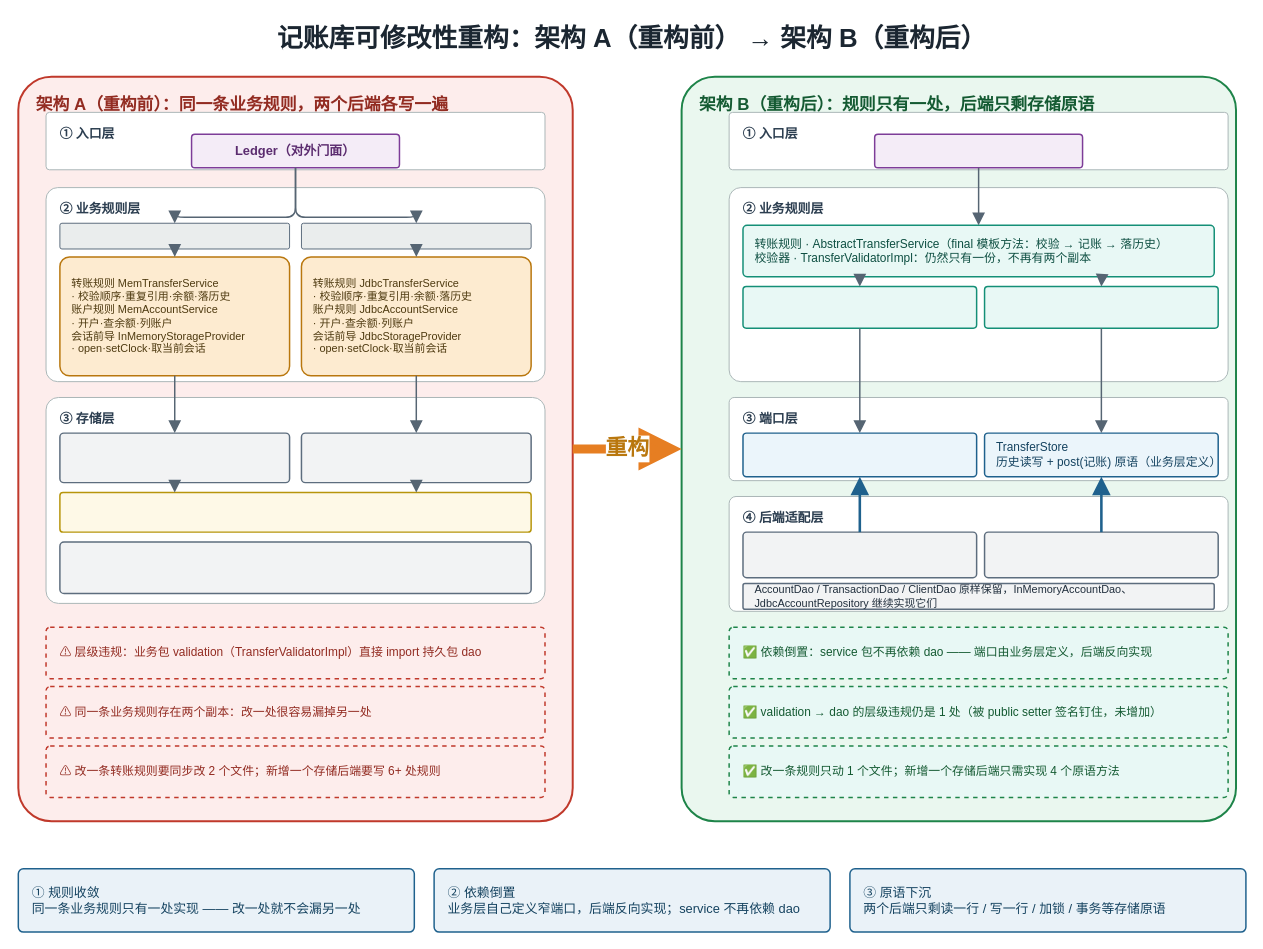
Image size: 1263x949. Some labels were removed from this diagram. The shapes that lost their labels are listed below. From the top down, each one's centre as x and y in pixels, then its label:
point 978,150: Ledger（对外门面，不变）
point 174,235: 内存后端 package memory
point 415,235: JDBC 后端 package jdbc
point 859,306: 账户规则 · AccountServiceImpl
point 1100,306: 会话前导 · AbstractStorageProvider
point 174,457: InMemoryAccountDao InMemoryTransactionDao Map 索引 + 写锁 + 快照回滚
point 415,457: JdbcAccountRepository JdbcTransactionRepository SQL + 事务 + 隔离级别
point 859,454: AccountStore 账户读写原语（业务层自己定义的窄接口）
point 295,511: dao 接口：AccountDao / TransactionDao / ClientDao（两个后端都实现它）
point 295,567: 两个后端都依赖同一套 dao 接口，业务规则却各写了一遍 —— 规则与存储实现混在同一层
point 859,554: InMemoryTransferStore Map + 读锁 + 写锁 + 快照回滚
point 1100,554: JdbcTransferStore 连接 + SERIALIZABLE + 提交/回滚
